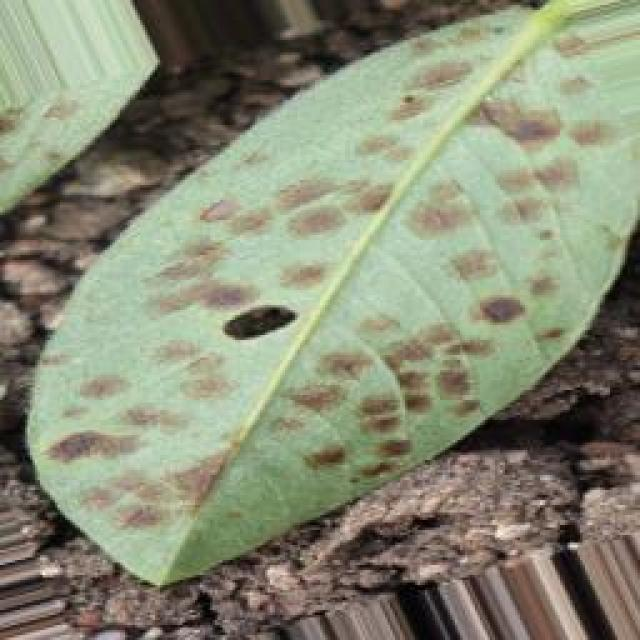Whitefly: (13, 4, 622, 541)
